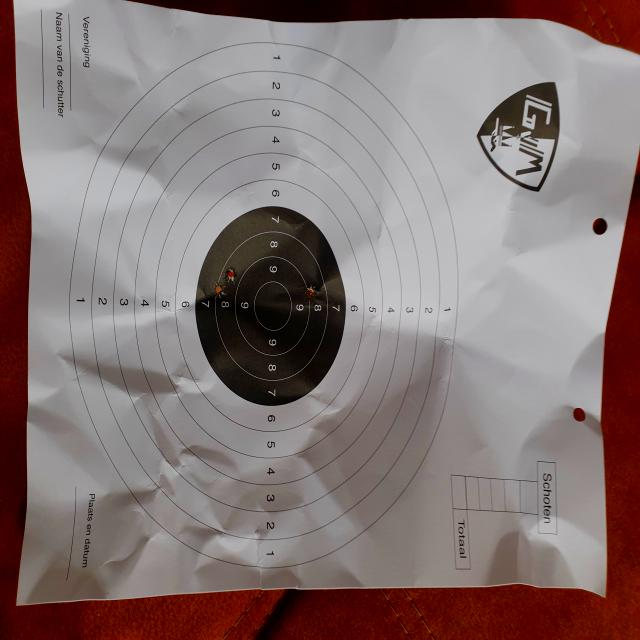8: (224, 266, 238, 284), (212, 282, 226, 299)
9: (304, 284, 318, 302)
Target: (70, 41, 459, 570)
black_contour: (196, 207, 346, 406)
